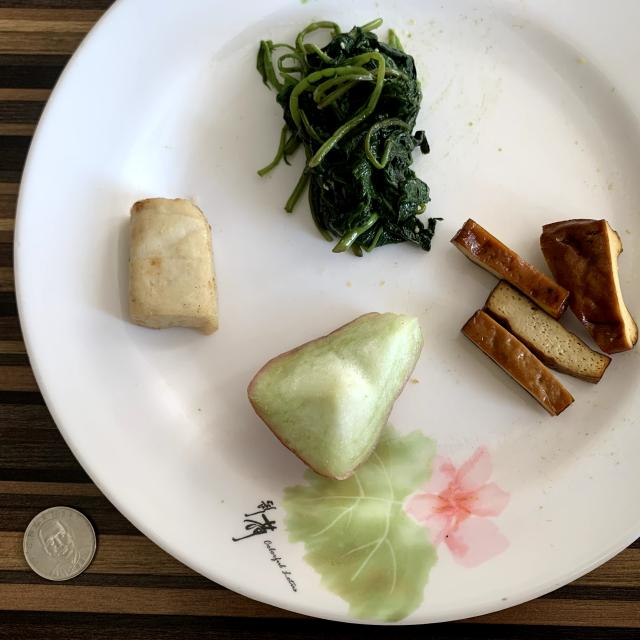coin: (22, 506, 96, 580)
creamy tofu -without sauce-: (130, 198, 219, 335)
firm tofu: (451, 220, 638, 415)
sweet potato leaves: (258, 19, 438, 255)
